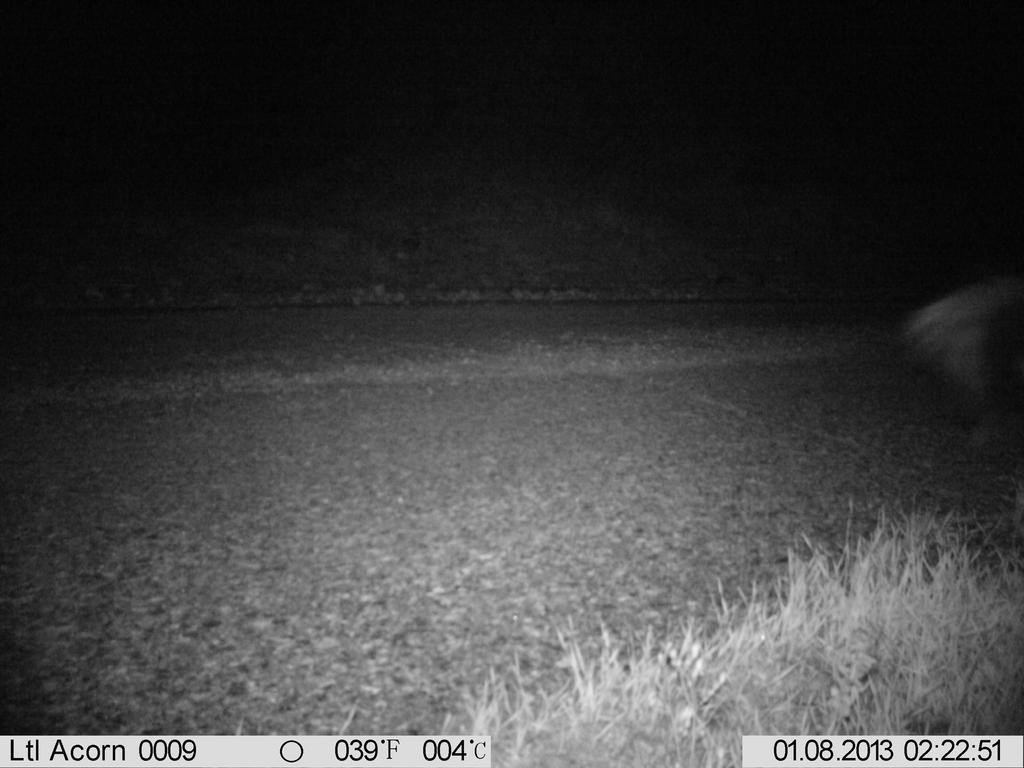skunk: (894, 266, 1023, 470)
